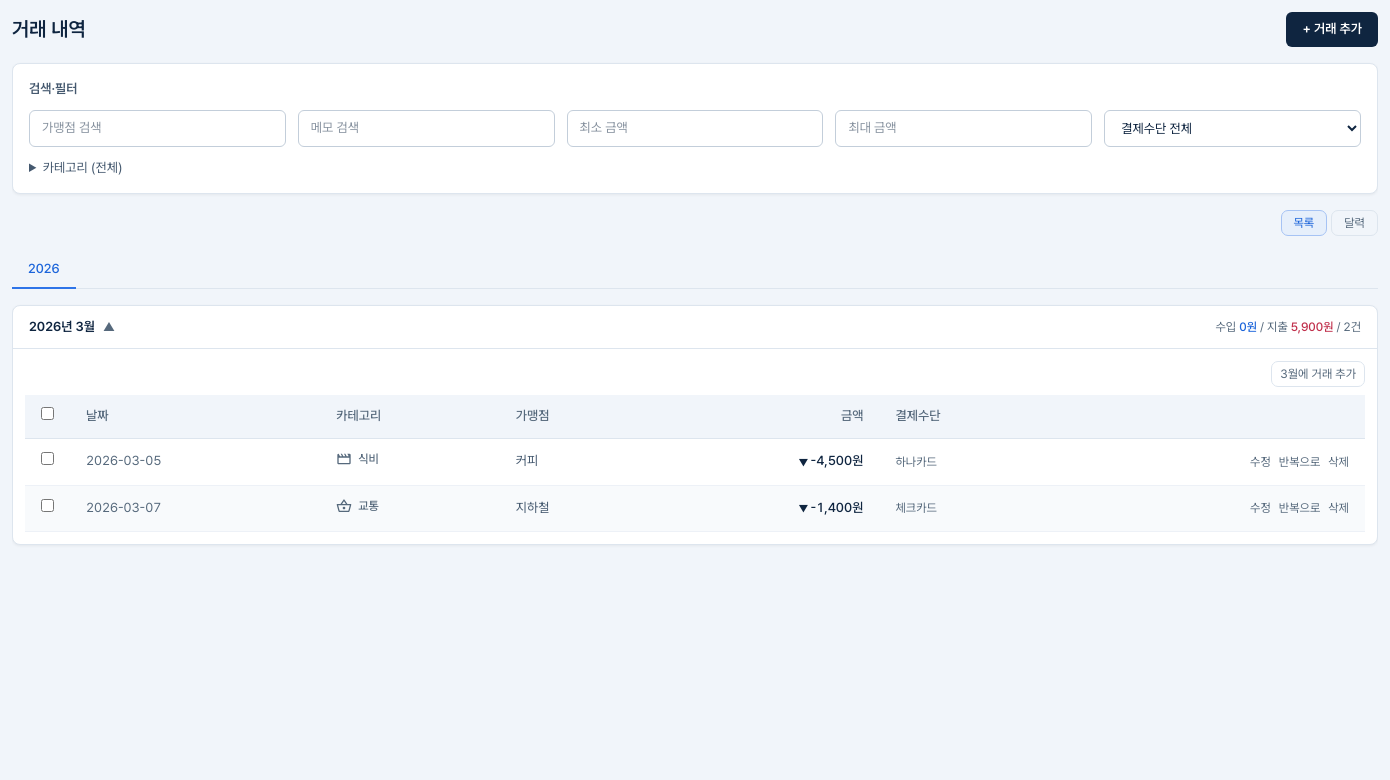
Test: 선택 › 다시 누르면 선택이 풀린다
This screenshot has width=1390, height=780.
Click the checkbox named "2026-03-05 커피 거래 선택": (48, 459) [41,452,54,465]
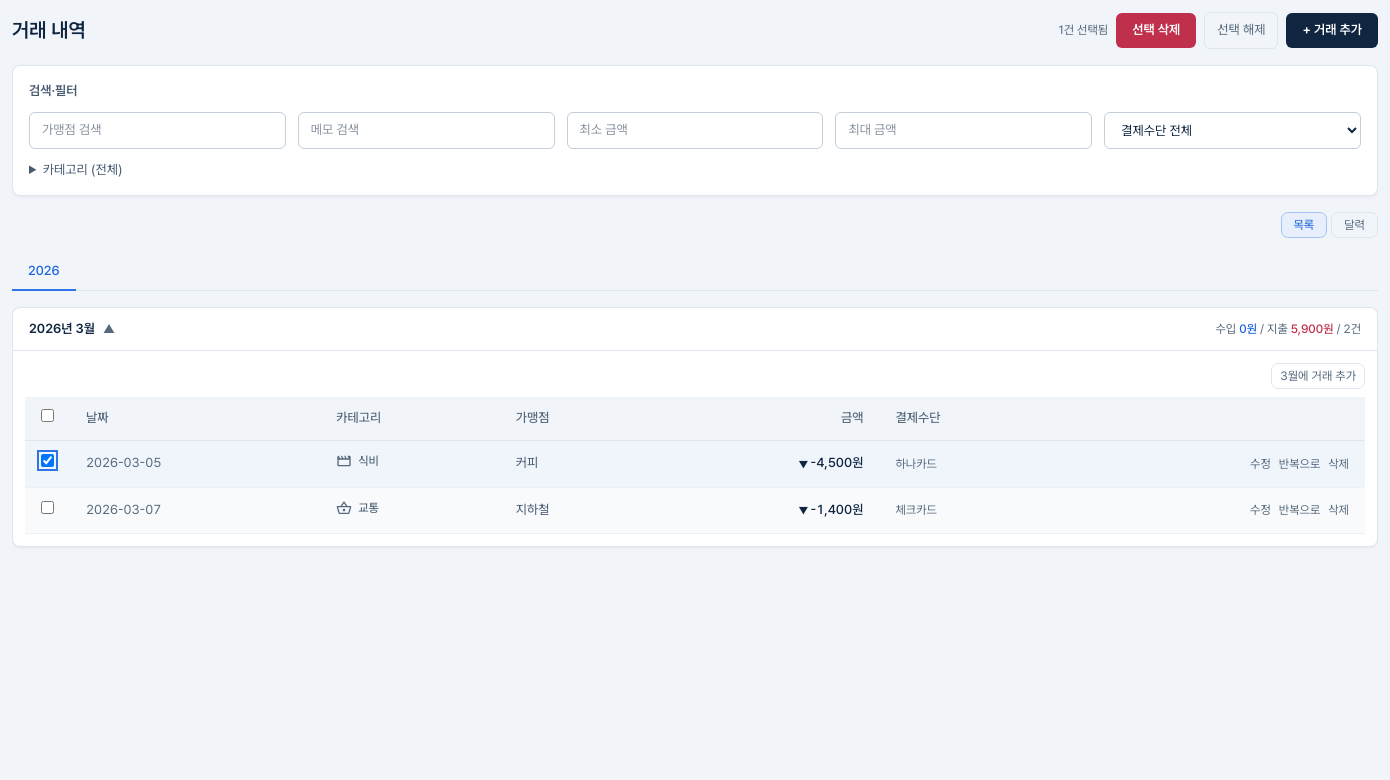
Click the checkbox named "2026-03-05 커피 거래 선택": (48, 461) [41,454,54,467]
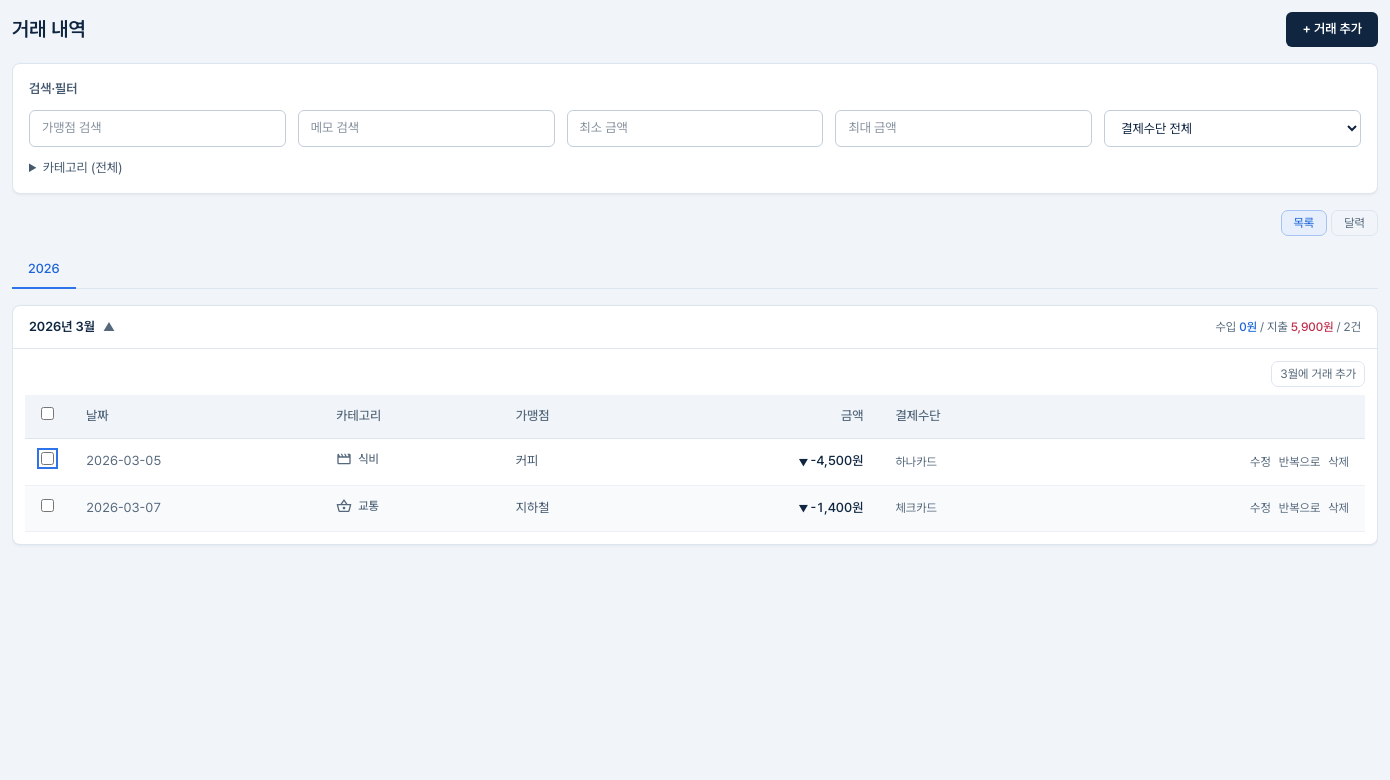
Expected: the text "건 선택됨" is gone
